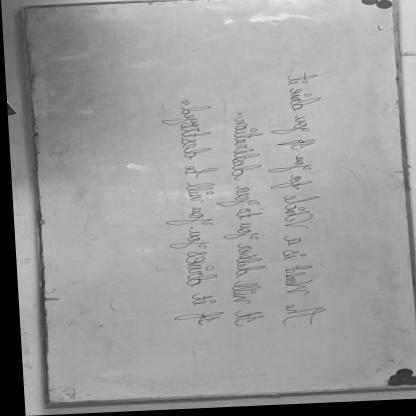Handwritten text: (259, 74, 336, 338), (150, 106, 221, 339), (210, 117, 272, 333)
Whiteboard: (15, 0, 416, 408)
